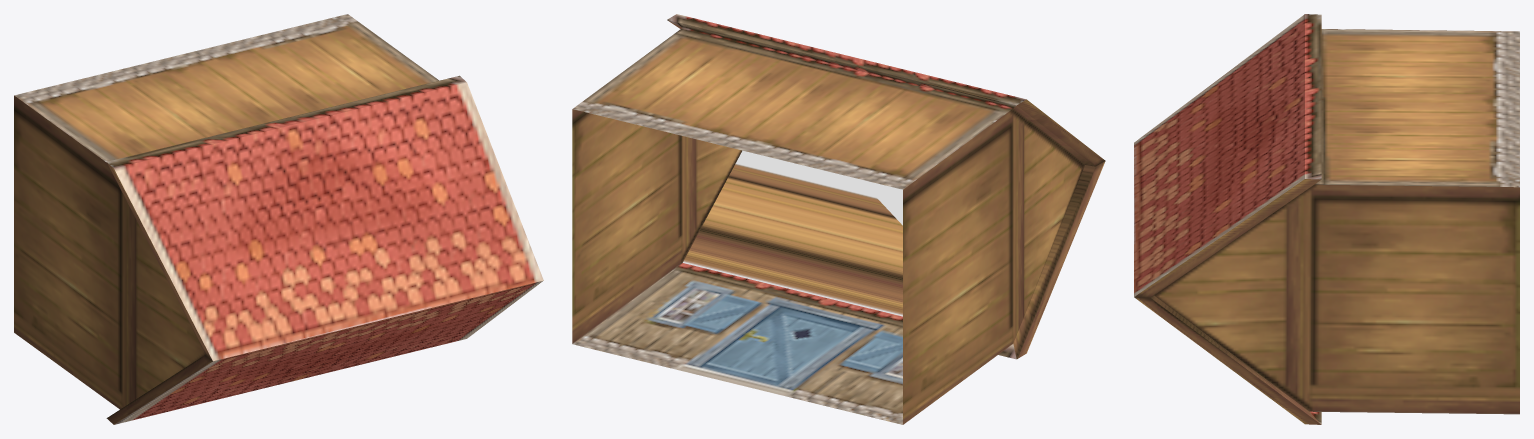
The model's file is m15shack_wtf.obj.
3 renders of one model, left to right at view 1: azimuth 30°, elevation 25°; view 2: azimuth 150°, elevation 25°; view 3: azimuth 270°, elevation 25°, orthographic. The views are drawn at different scales.
Parts seen in each view (by area): view 1: group2; view 2: group2; view 3: group2.
Boxes of the visible parts, bbox=[...] form: group2: bbox=[14, 14, 543, 424]; group2: bbox=[572, 14, 1105, 424]; group2: bbox=[1134, 14, 1519, 424].
Bounding box in the file's own units: 660 × 456 × 650.
